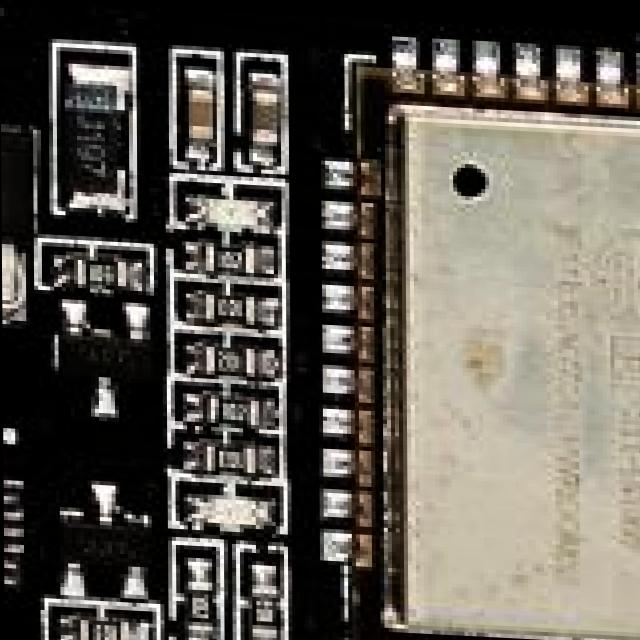IC: (316, 45, 640, 640), (0, 56, 34, 313), (3, 432, 24, 625)
LED: (195, 182, 277, 231), (183, 485, 275, 527)
capacitor: (238, 64, 285, 152), (178, 63, 217, 149)
diode: (60, 70, 117, 201)
resistor: (195, 234, 270, 283), (177, 547, 216, 633), (194, 432, 259, 478), (63, 251, 126, 297), (198, 340, 262, 383), (196, 292, 266, 331), (202, 386, 262, 431), (60, 610, 132, 640), (245, 574, 276, 640)
transistor: (50, 298, 158, 418), (49, 484, 147, 602)
